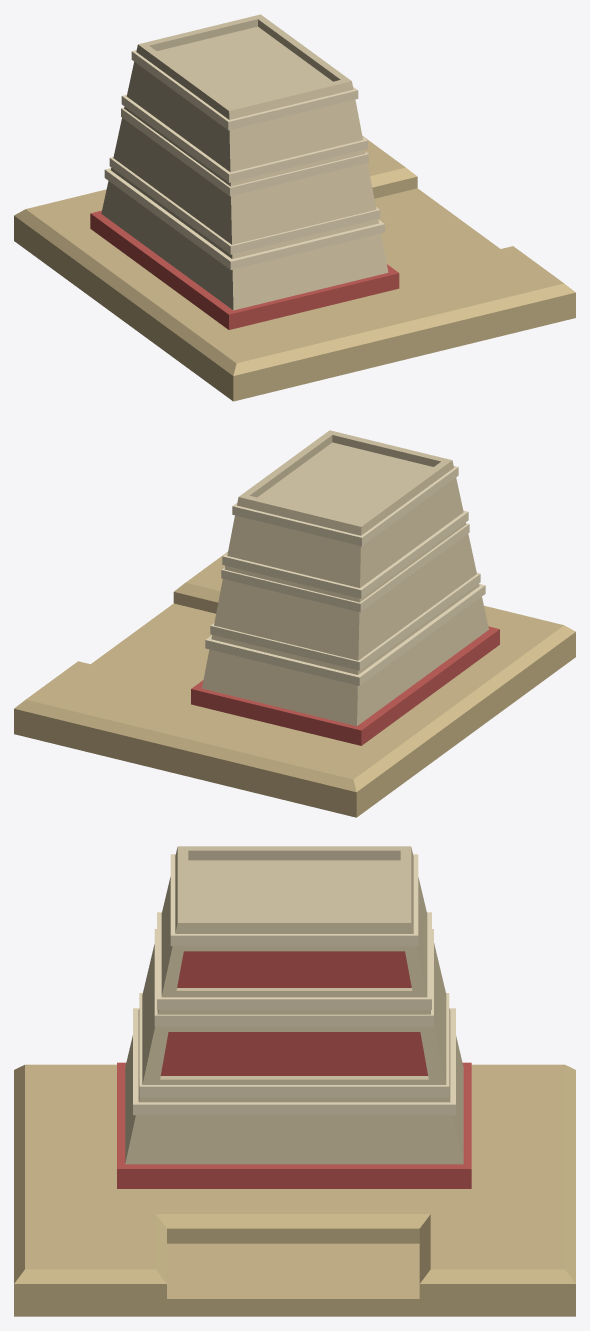
File: Altar_Huitzilopochtli.fbx
3 renders of one model, top to bottom at view 1: azimuth 30°, elevation 25°; view 2: azimuth 150°, elevation 25°; view 3: azimuth 270°, elevation 25°, orthographic. The views are drawn at different scales.
Visible parts, largest first — view 1: Altar_Huitzilopochtli; view 2: Altar_Huitzilopochtli; view 3: Altar_Huitzilopochtli.
Part boxes in pixels (box(x1,y1,x2,y2)): Altar_Huitzilopochtli: box(14, 14, 575, 401); Altar_Huitzilopochtli: box(14, 430, 575, 817); Altar_Huitzilopochtli: box(14, 846, 575, 1316).
Size of the model in its own units: 293 by 187 by 325.
